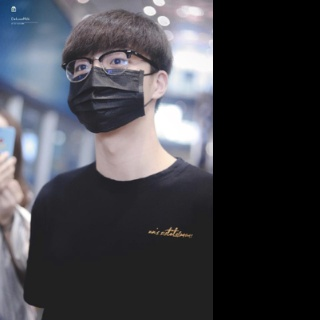with_mask: (67, 43, 159, 133)
